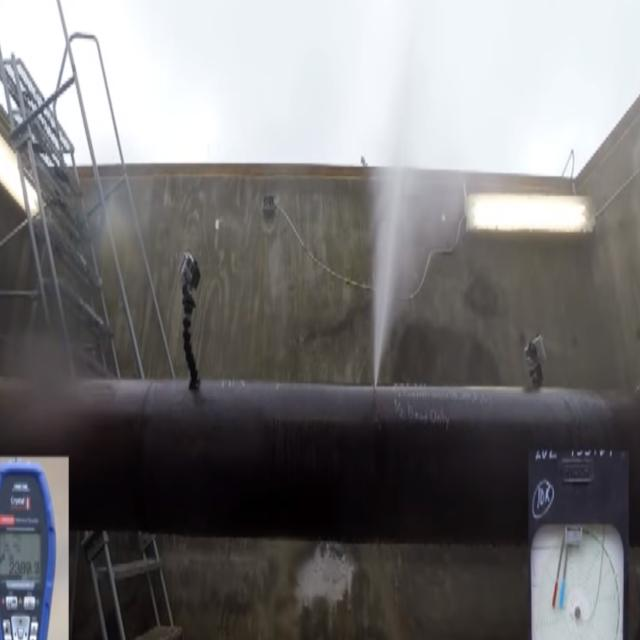leak: (372, 168, 404, 385)
